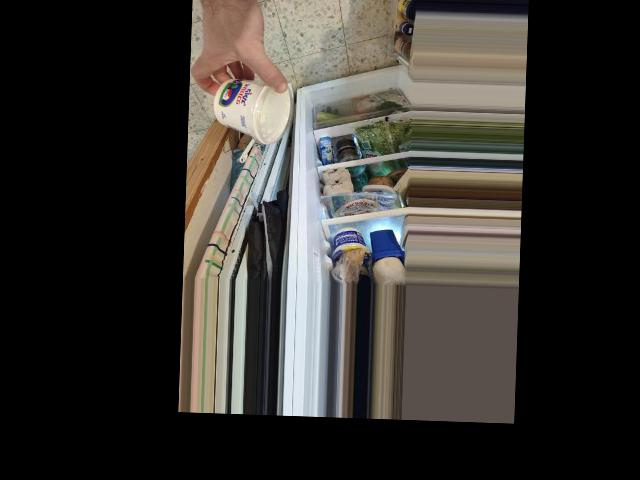cotage: (209, 67, 295, 147)
